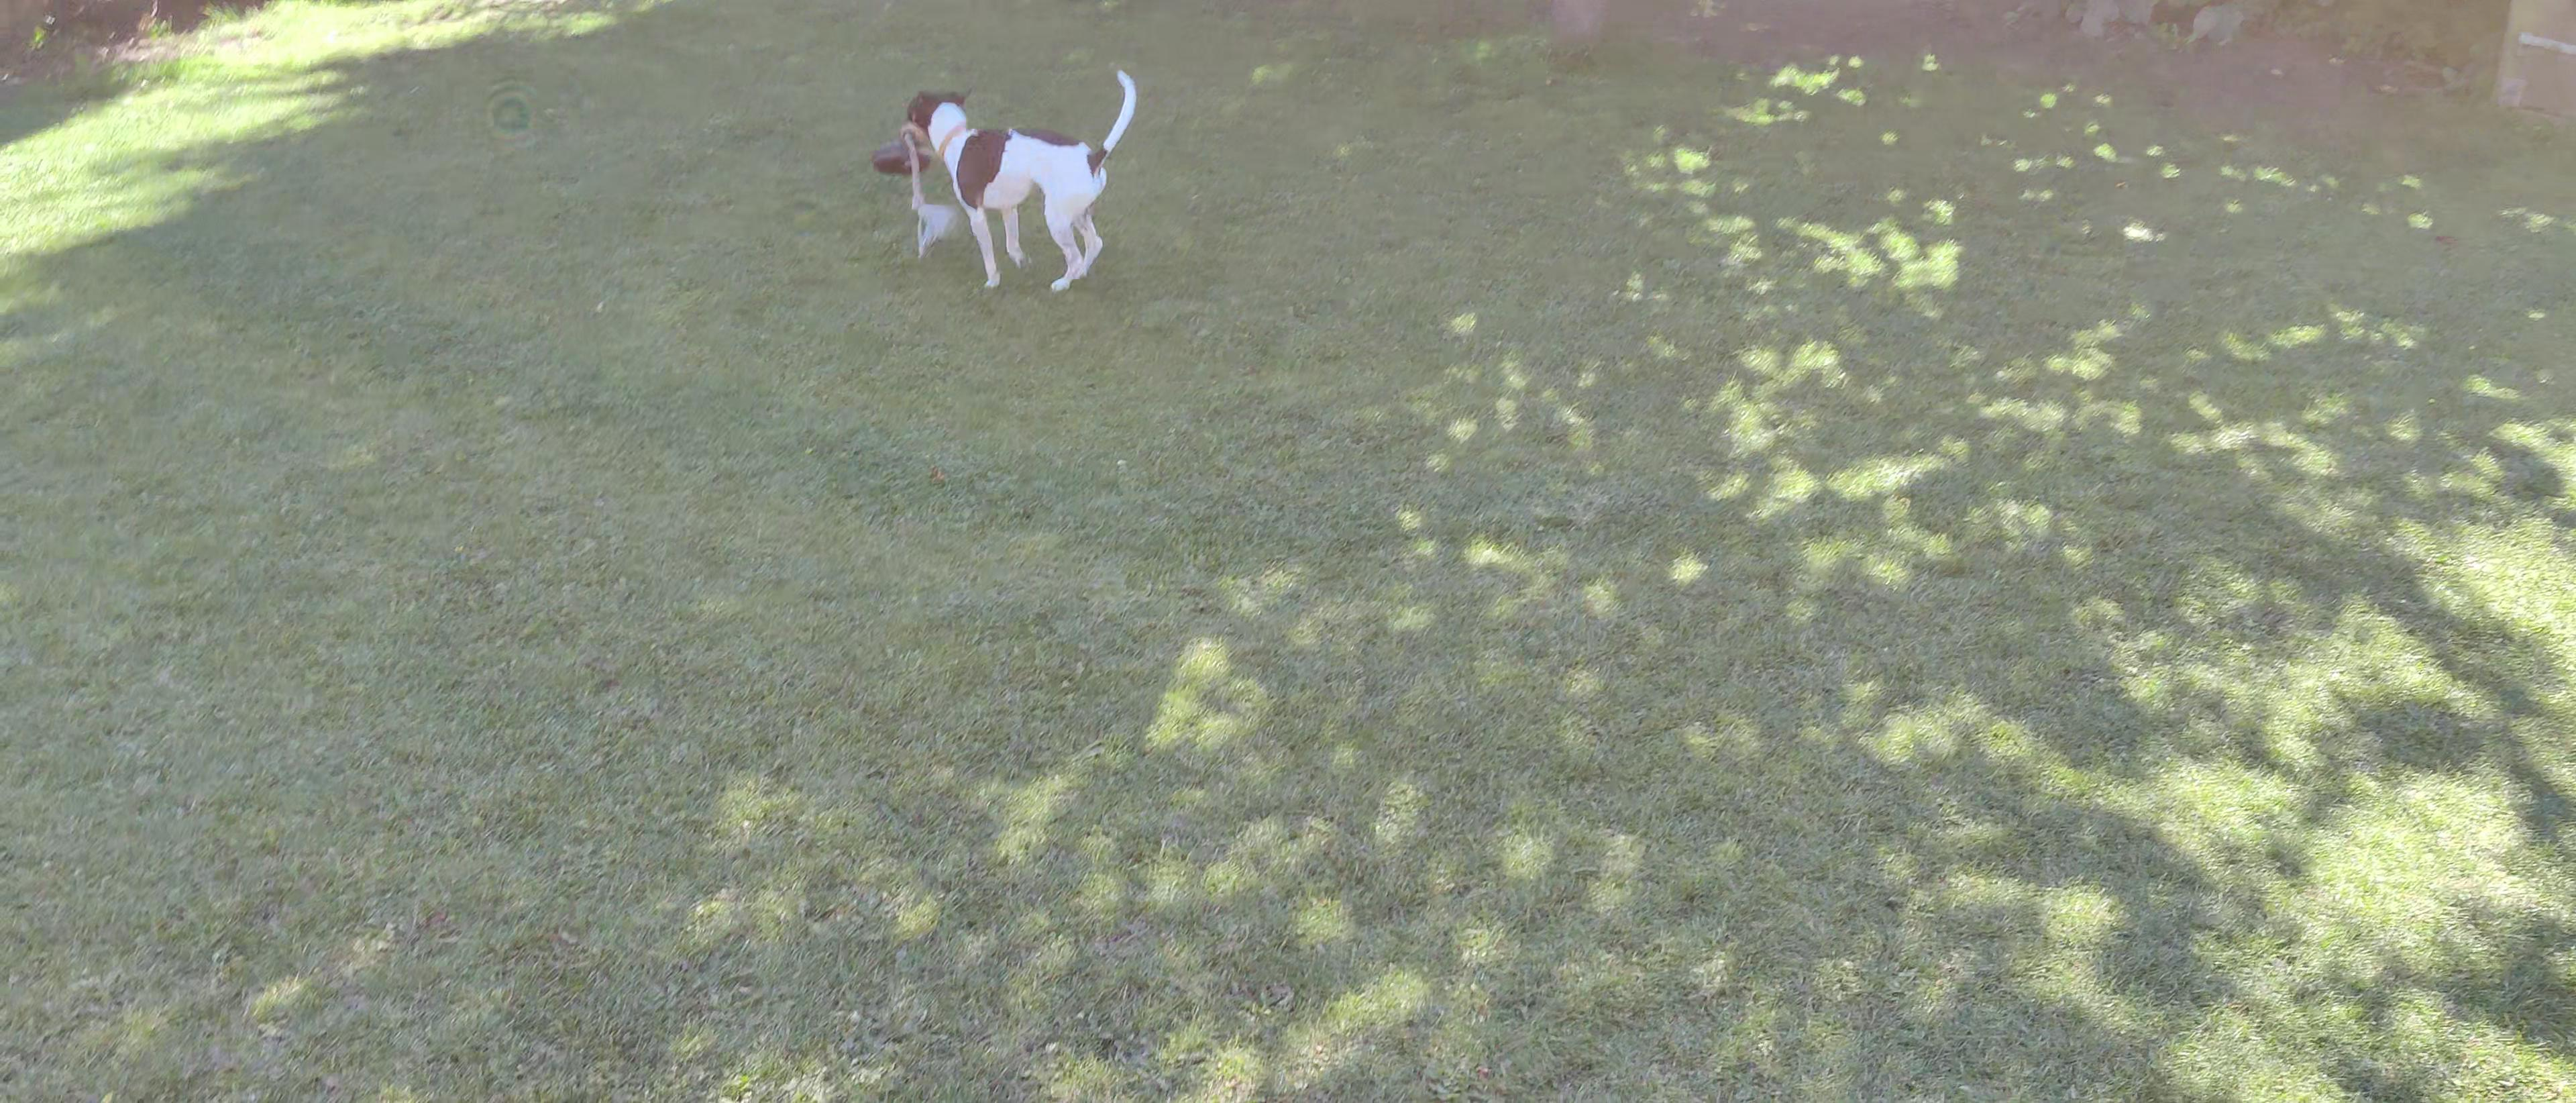Dog: (895, 64, 1138, 293)
